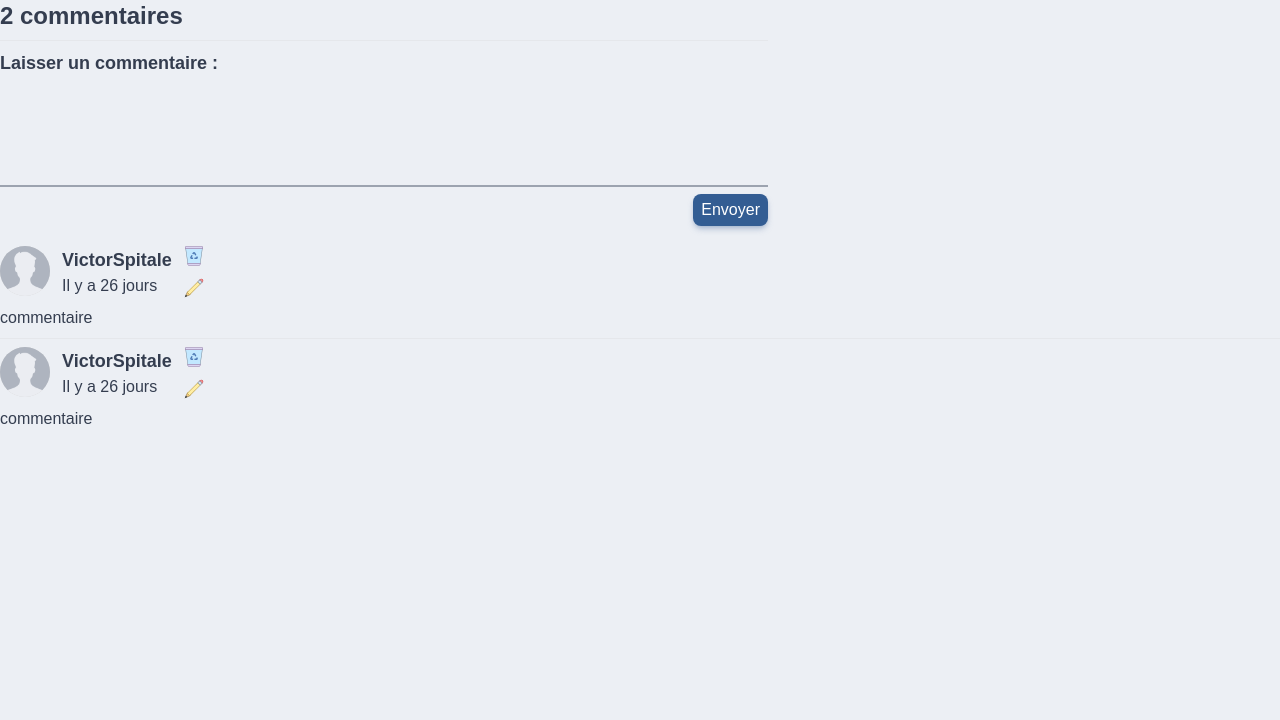
Test: CommentsTest › should fail to delete a comment
This screenshot has width=1280, height=720.
Click the 1st icon at coordinates (194, 256), box x1=184 y1=246 x2=204 y2=266
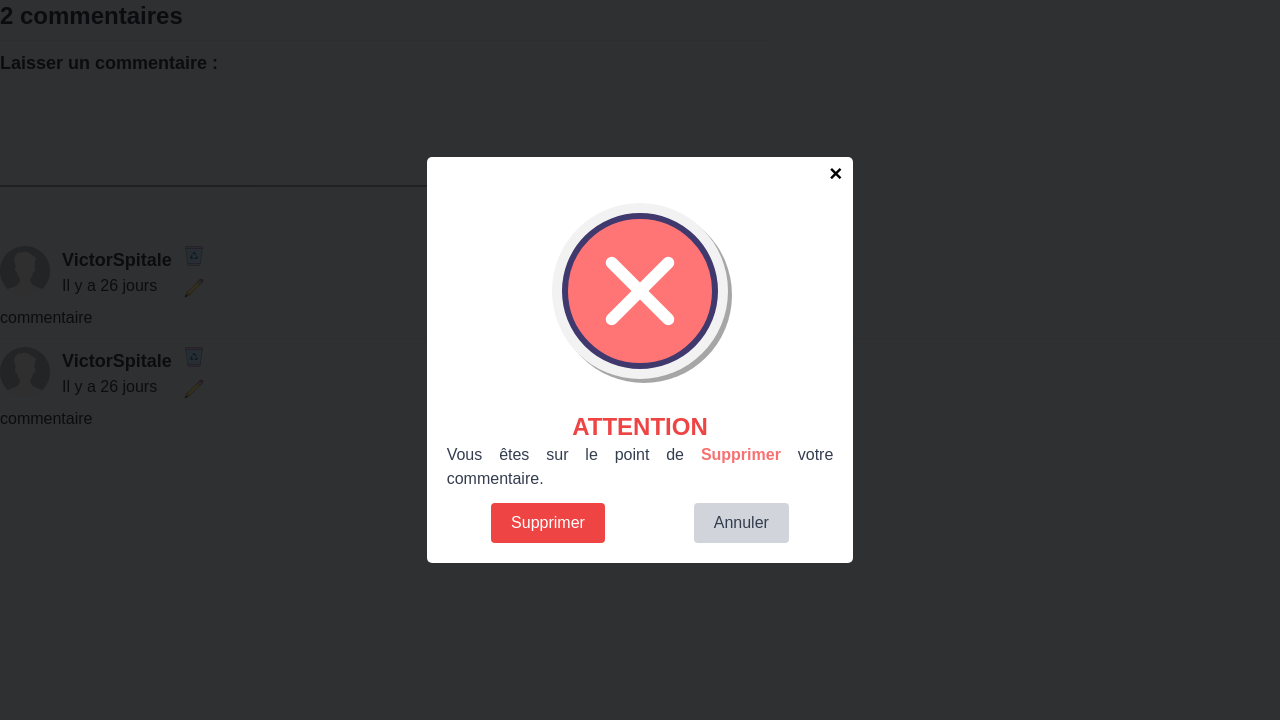
Click the button "Supprimer" at coordinates (548, 523), box x1=491 y1=503 x2=605 y2=543
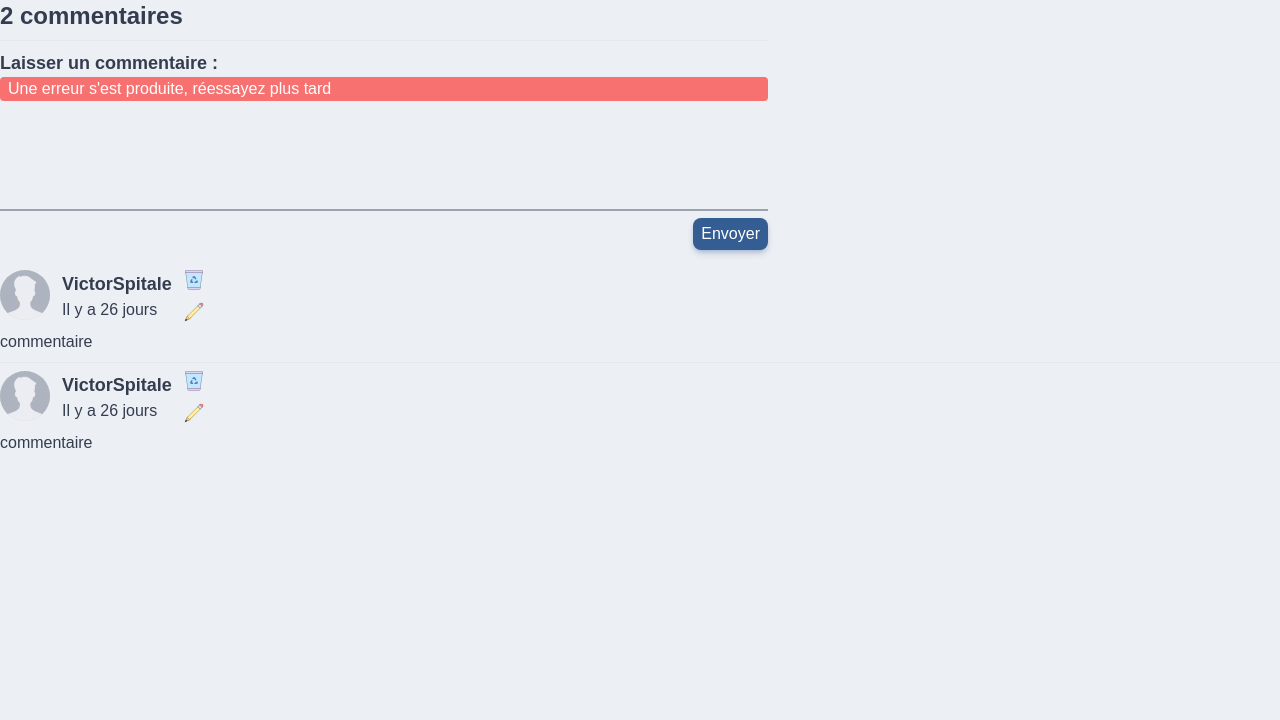
Result: the text "Une erreur s'est produite, réessayez plus tard" is shown at x1=0 y1=77 x2=768 y2=101
